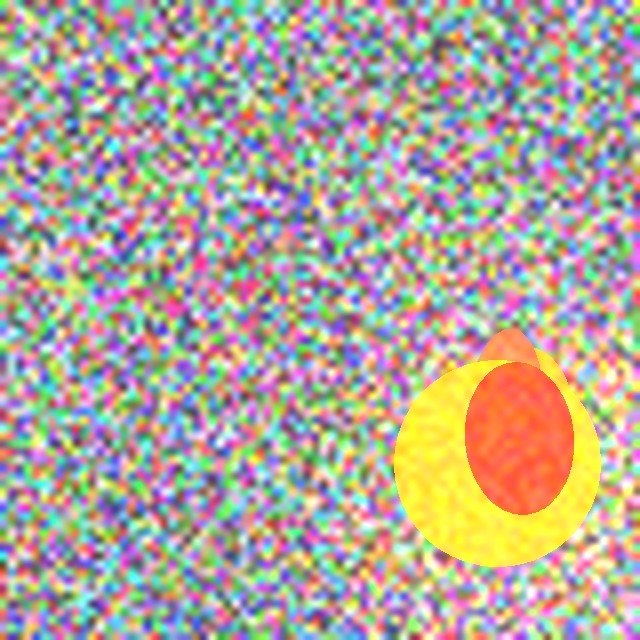fire: (407, 390, 625, 534)
